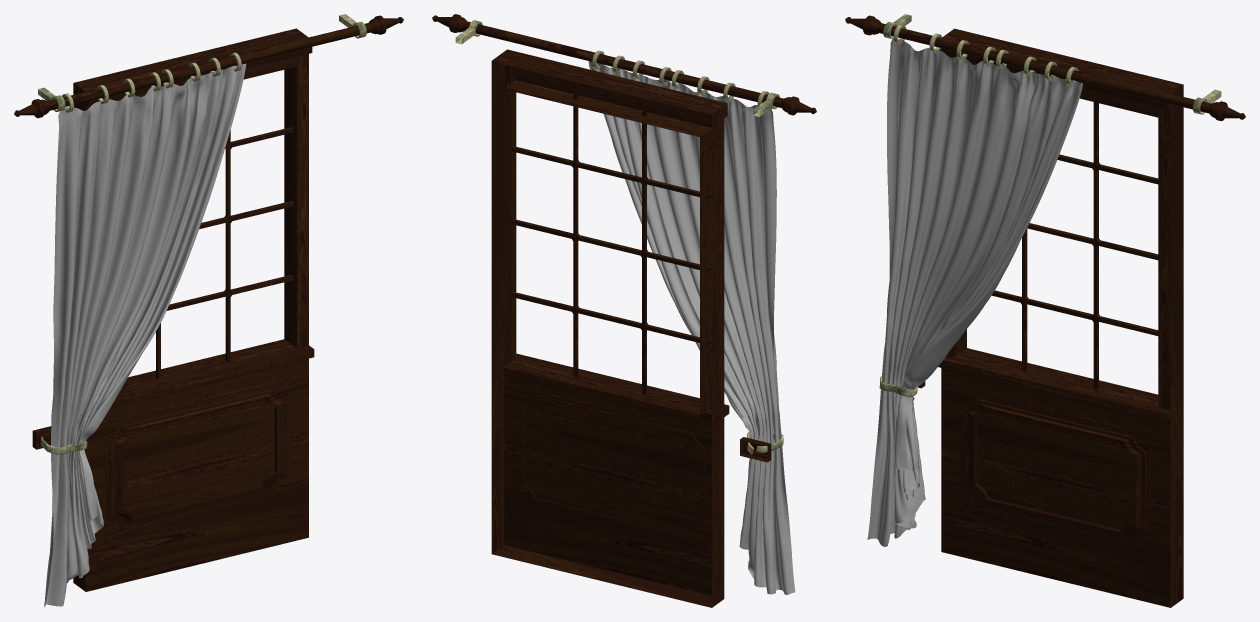
Rendered from PR_Window_01 1.fbx.
The picture shows the model from 3 angles, left to right: view 1: azimuth 30°, elevation 25°; view 2: azimuth 150°, elevation 25°; view 3: azimuth 330°, elevation 25°; orthographic projection. The views are drawn at different scales.
Parts seen in each view (by area): view 1: curtain, Window, ornament, Rail, grill, rings, Holders; view 2: Window, curtain, grill, Rail, rings, ornament, Holders, wallPiece; view 3: Window, curtain, ornament, grill, Rail, rings, Holders.
Part boxes in pixels (x1,y1,x2,y2): curtain: (44,63,246,606); Window: (73,28,314,591); ornament: (106,385,289,528); Rail: (14,15,403,118); grill: (156,127,293,378); rings: (62,52,241,112); Holders: (38,14,366,111); Window: (491,49,729,607); curtain: (588,61,795,594); grill: (511,93,711,394); Rail: (432,14,816,115); rings: (592,50,769,105); ornament: (523,395,704,536); Holders: (455,20,779,116); wallPiece: (740,437,771,462); Window: (938,28,1183,607); curtain: (867,39,1082,546); ornament: (961,396,1150,542); grill: (992,102,1158,388); Rail: (845,15,1245,121); rings: (893,24,1078,86); Holders: (883,14,1221,114).
Size of the model in its own units: 222 by 282 by 37.42.
